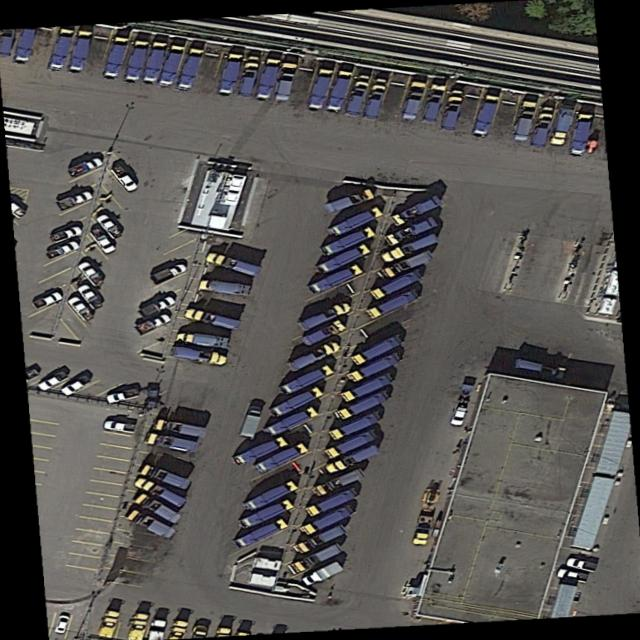large-vehicle: (331, 389, 391, 421), (260, 405, 317, 438), (374, 249, 433, 280), (266, 385, 323, 417), (235, 498, 293, 529), (276, 363, 332, 395), (241, 479, 297, 511), (231, 517, 287, 549), (296, 504, 354, 534), (379, 232, 437, 262), (290, 523, 346, 554), (286, 542, 342, 573), (305, 263, 361, 294), (251, 442, 307, 473), (322, 443, 379, 473), (230, 435, 287, 465), (284, 340, 339, 371), (345, 352, 401, 382), (325, 206, 381, 236), (318, 226, 374, 256), (363, 288, 418, 318), (326, 410, 381, 440), (322, 428, 377, 458), (388, 194, 441, 225), (132, 476, 185, 507), (309, 467, 365, 496), (315, 243, 369, 273), (296, 300, 350, 330), (338, 372, 393, 401), (368, 269, 421, 299), (349, 334, 402, 364), (132, 492, 181, 524), (382, 216, 436, 245), (303, 487, 358, 515), (125, 508, 175, 538), (204, 250, 260, 276), (182, 306, 239, 330), (168, 343, 227, 366), (298, 318, 346, 346), (321, 188, 373, 213), (139, 463, 189, 489), (175, 47, 202, 90), (305, 67, 331, 111), (471, 94, 498, 136), (324, 70, 351, 112), (139, 41, 166, 83), (46, 27, 72, 70), (216, 52, 242, 95), (101, 36, 127, 79), (156, 45, 183, 86), (66, 30, 91, 73), (143, 432, 196, 452), (300, 560, 342, 585), (549, 103, 574, 145), (122, 40, 147, 82), (150, 418, 205, 437), (10, 24, 36, 64), (400, 80, 425, 120), (344, 74, 369, 114), (362, 77, 386, 118), (568, 113, 591, 155), (438, 89, 462, 129), (529, 106, 552, 147), (255, 58, 278, 99), (197, 278, 249, 296), (512, 100, 535, 140), (236, 55, 258, 96), (175, 331, 227, 348), (272, 62, 295, 100), (421, 83, 444, 120), (238, 405, 261, 437), (123, 612, 149, 640), (94, 609, 119, 638), (164, 617, 188, 640), (146, 618, 166, 640), (0, 25, 15, 54)
small-vehicle: (41, 234, 81, 262), (105, 161, 140, 193), (146, 259, 187, 286), (84, 224, 118, 255), (53, 187, 94, 212), (63, 154, 104, 178), (132, 311, 172, 335), (64, 293, 96, 322), (73, 281, 105, 309), (33, 368, 70, 392), (45, 220, 82, 244), (136, 294, 176, 316), (74, 259, 105, 287), (55, 373, 92, 396), (28, 288, 64, 311), (93, 212, 122, 238), (101, 386, 140, 404), (99, 417, 137, 434), (563, 554, 596, 573), (555, 566, 588, 583), (446, 404, 468, 427), (411, 522, 431, 545), (51, 612, 69, 633)
